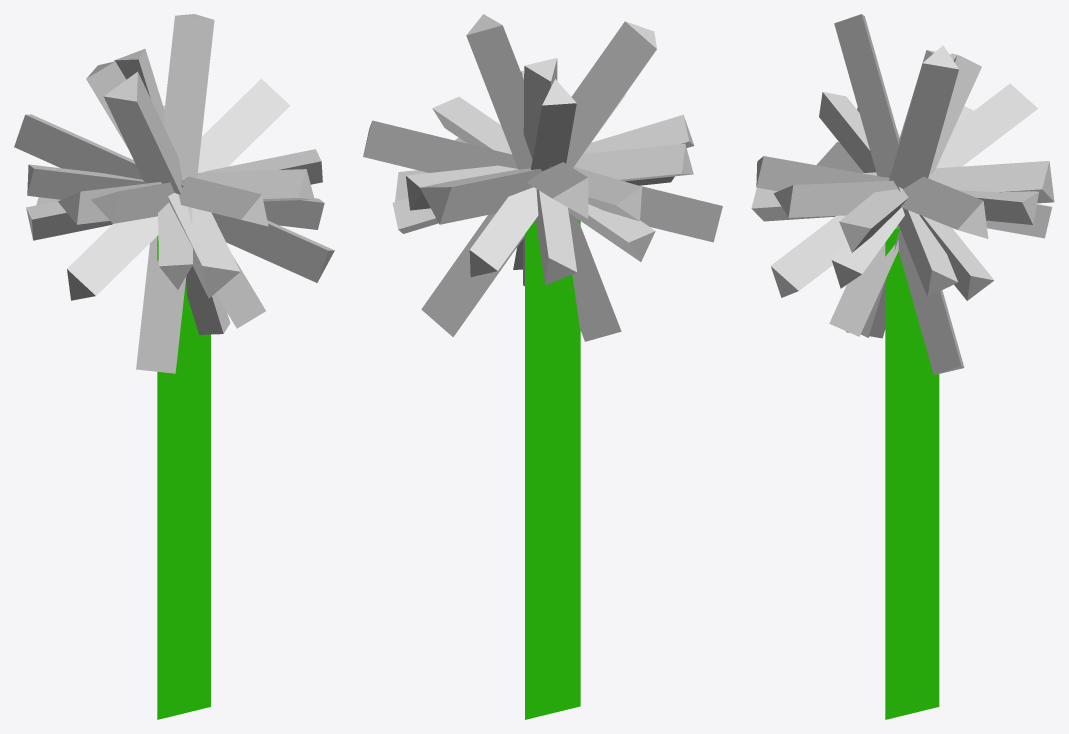
The model's file is Pissenlit 2.fbx.
3 views of the same model, side by side, from view 1: azimuth 30°, elevation 25°; view 2: azimuth 150°, elevation 25°; view 3: azimuth 270°, elevation 25° (orthographic). The views are drawn at different scales.
Parts seen in each view (by area): view 1: Cylinder, Cylinder.010, Cylinder.001, Cylinder.012, Cylinder.007, Cylinder.006, Cylinder.013, Cylinder.011, Cylinder.003, Cylinder.014, Cylinder.008, Cylinder.002 (+3 smaller); view 2: Cylinder, Cylinder.007, Cylinder.010, Cylinder.001, Cylinder.011, Cylinder.013, Cylinder.009, Cylinder.002, Cylinder.005, Cylinder.014, Cylinder.008, Cylinder.003 (+3 smaller); view 3: Cylinder, Cylinder.007, Cylinder.012, Cylinder.010, Cylinder.005, Cylinder.013, Cylinder.014, Cylinder.001, Cylinder.002, Cylinder.008, Cylinder.009, Cylinder.011 (+3 smaller).
Boxes of the visible parts, box(x1,y1,x2,y2) form: Cylinder: box(157, 235, 210, 719); Cylinder.010: box(136, 14, 214, 373); Cylinder.001: box(67, 78, 290, 300); Cylinder.012: box(14, 114, 334, 282); Cylinder.007: box(103, 71, 182, 194); Cylinder.006: box(27, 164, 324, 229); Cylinder.013: box(168, 193, 240, 298); Cylinder.011: box(26, 149, 322, 240); Cylinder.003: box(114, 49, 230, 334); Cylinder.014: box(86, 61, 265, 328); Cylinder.008: box(36, 169, 314, 205); Cylinder.002: box(178, 176, 268, 226); Cylinder: box(525, 219, 580, 719); Cylinder.007: box(421, 21, 656, 337); Cylinder.010: box(466, 14, 621, 341); Cylinder.001: box(363, 120, 722, 242); Cylinder.011: box(432, 96, 655, 261); Cylinder.013: box(420, 168, 542, 224); Cylinder.009: box(395, 143, 693, 201); Cylinder.002: box(469, 94, 625, 277); Cylinder.005: box(392, 114, 694, 233); Cylinder.014: box(513, 79, 576, 269); Cylinder.008: box(521, 70, 577, 285); Cylinder.003: box(523, 58, 557, 286); Cylinder: box(885, 227, 939, 719); Cylinder.007: box(834, 14, 964, 374); Cylinder.012: box(771, 83, 1037, 297); Cylinder.010: box(846, 45, 958, 338); Cylinder.005: box(819, 92, 994, 300); Cylinder.013: box(751, 161, 1054, 221); Cylinder.014: box(829, 53, 981, 336); Cylinder.001: box(816, 142, 988, 238); Cylinder.002: box(756, 156, 1052, 238); Cylinder.008: box(773, 180, 897, 217); Cylinder.009: box(857, 107, 958, 297); Cylinder.011: box(839, 189, 908, 252).
Size of the model in its own units: 445 by 1007 by 412.
